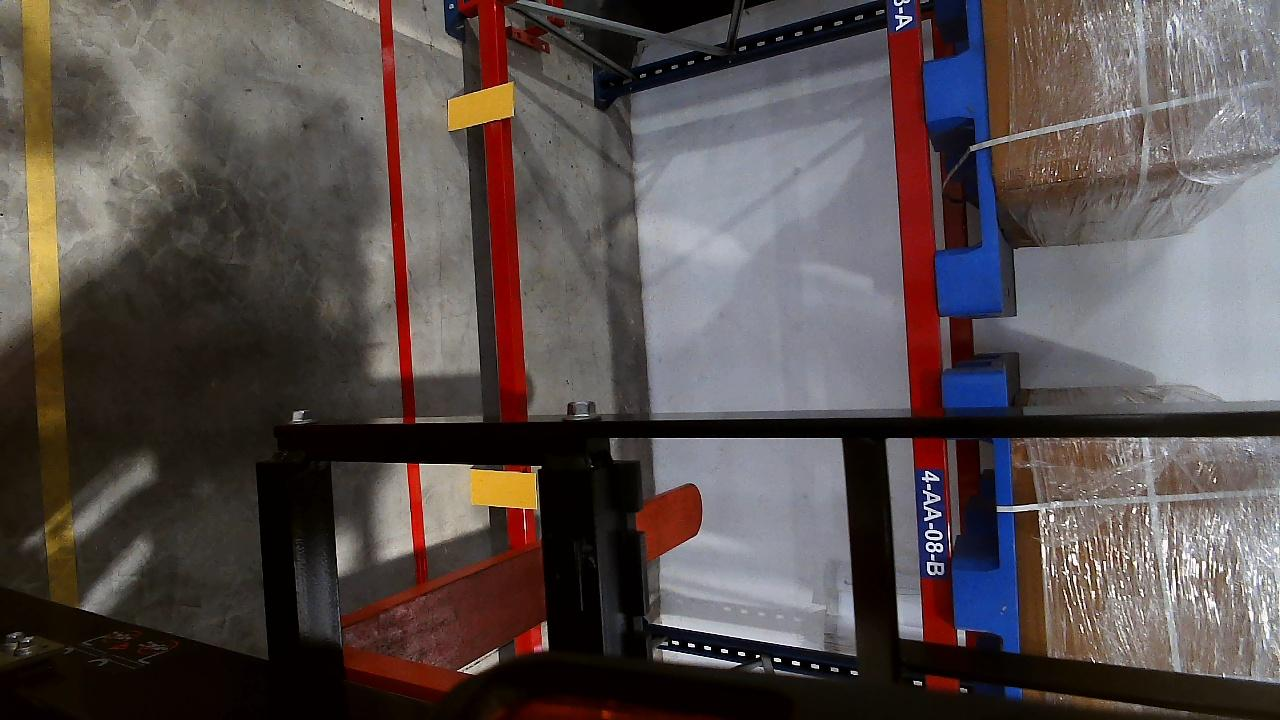h_rack: (882, 0, 948, 555), (471, 3, 524, 416)
orange_strip: (445, 83, 515, 129), (469, 469, 540, 509)
red_line: (378, 0, 416, 441)
small_pallet: (917, 0, 1007, 307)
yellow_line: (17, 0, 74, 600)
